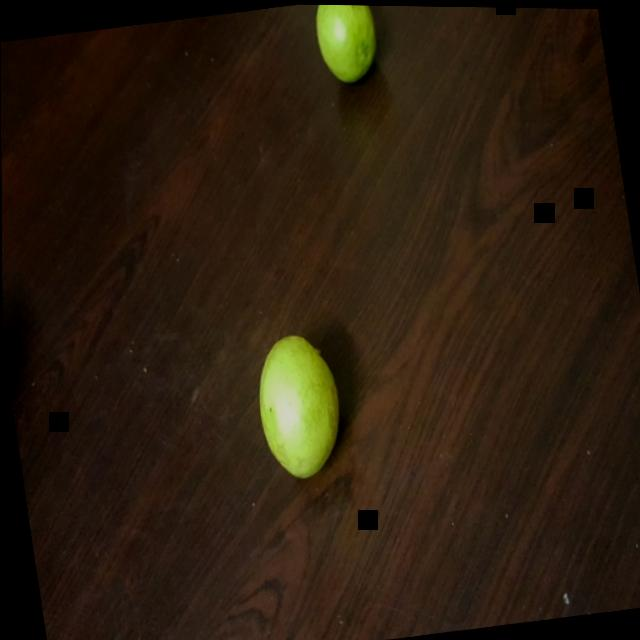lemon: (242, 325, 355, 479), (304, 4, 392, 85)
